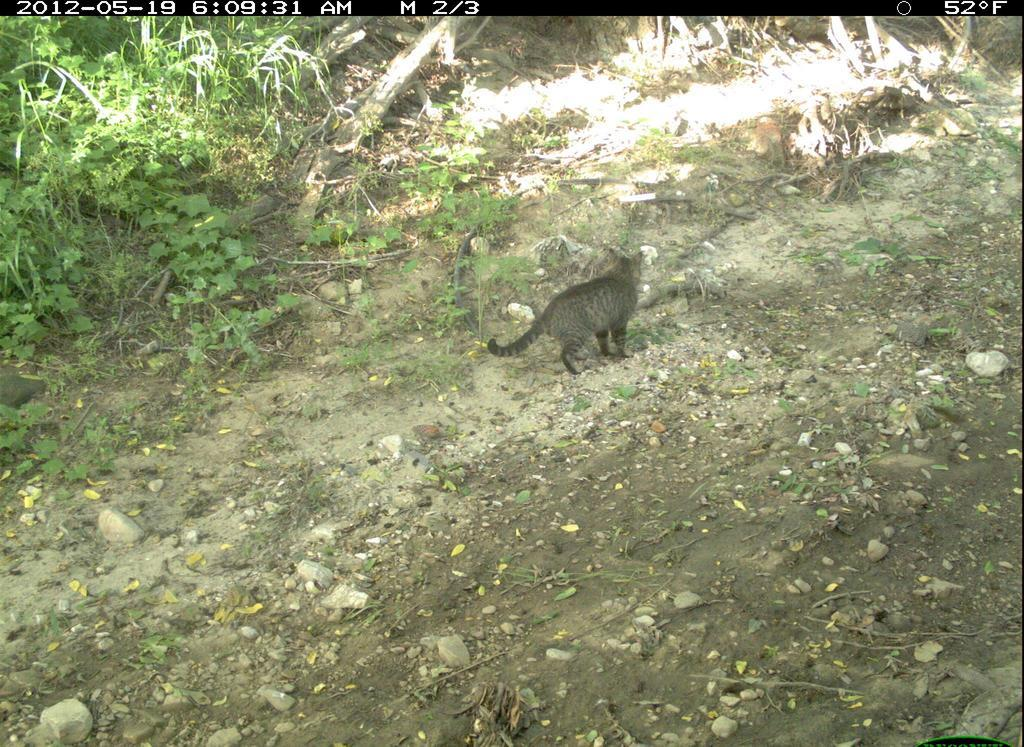cat: (475, 236, 653, 382)
